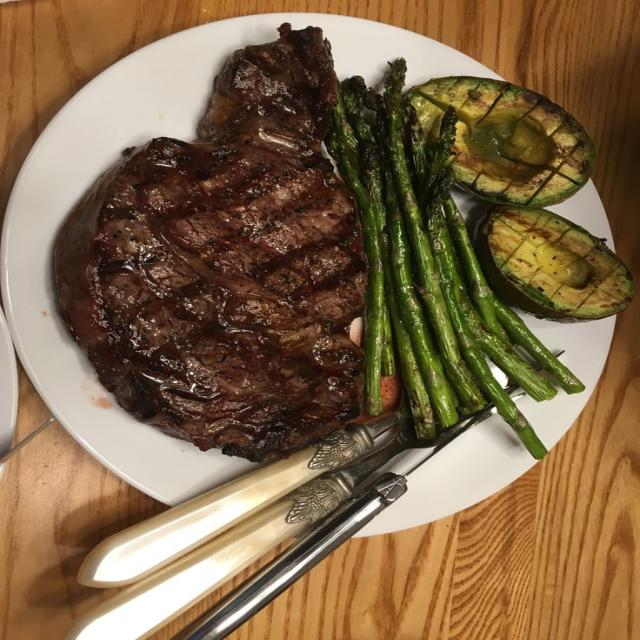asparagus: (385, 59, 484, 411), (368, 94, 458, 426), (429, 212, 546, 459), (444, 199, 585, 393), (384, 162, 458, 426), (326, 92, 385, 415), (456, 267, 556, 401), (444, 198, 510, 347), (495, 299, 585, 393), (339, 77, 386, 242), (406, 103, 428, 197)
avocado: (406, 76, 593, 206), (476, 205, 634, 320)
beef steak: (55, 24, 366, 461)
